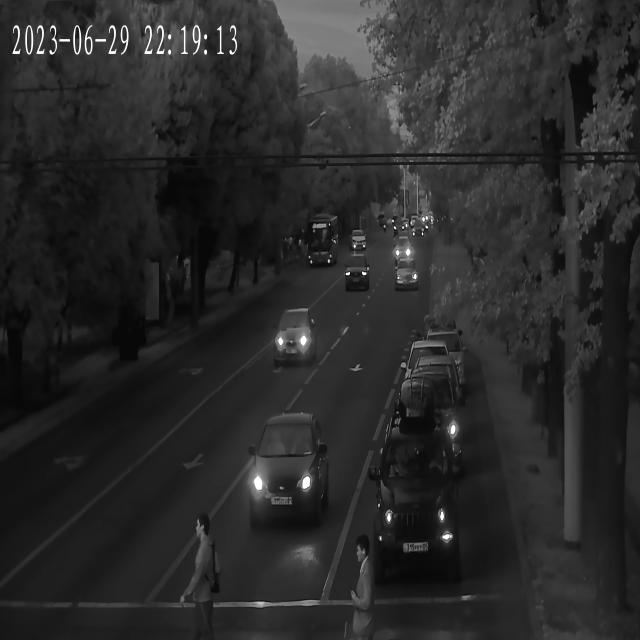Bus: (307, 213, 342, 272)
Car: (374, 387, 455, 586), (249, 411, 331, 534), (410, 358, 462, 478), (403, 339, 450, 417), (272, 304, 318, 380), (344, 250, 373, 295), (395, 261, 420, 295), (391, 232, 414, 260), (350, 229, 369, 255)
